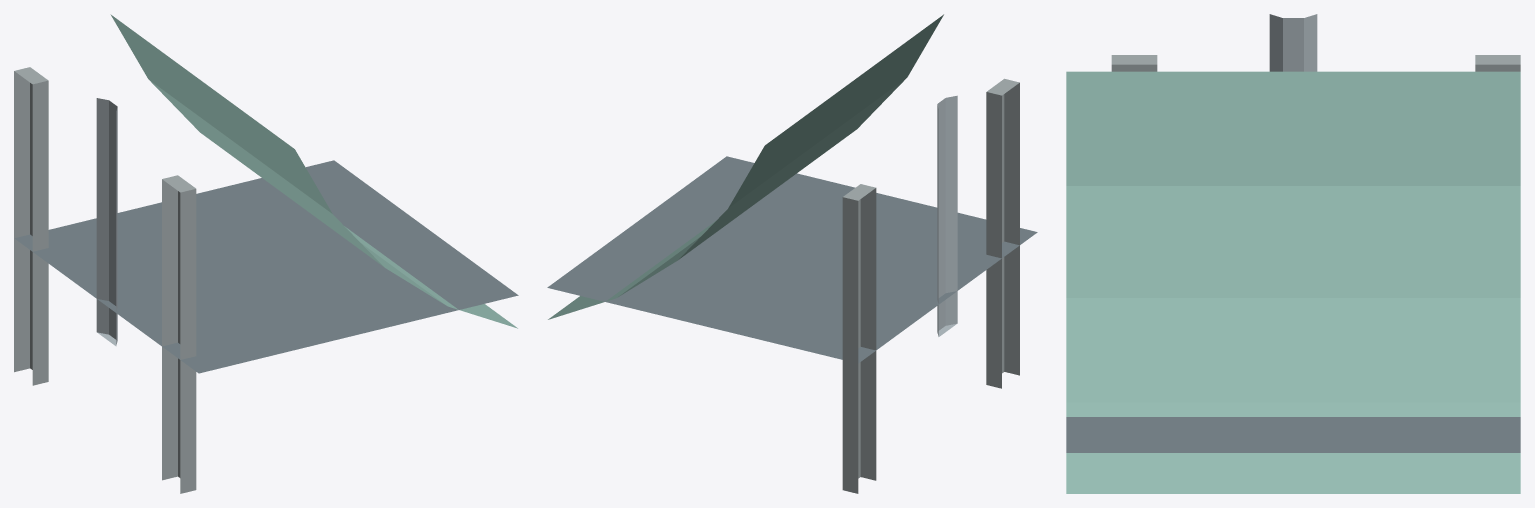
The model's file is cell_61.obj.
3 views of the same model, side by side, from view 1: azimuth 30°, elevation 25°; view 2: azimuth 150°, elevation 25°; view 3: azimuth 270°, elevation 25° (orthographic). The views are drawn at different scales.
Size of the model in its own units: 1 by 1 by 1.
